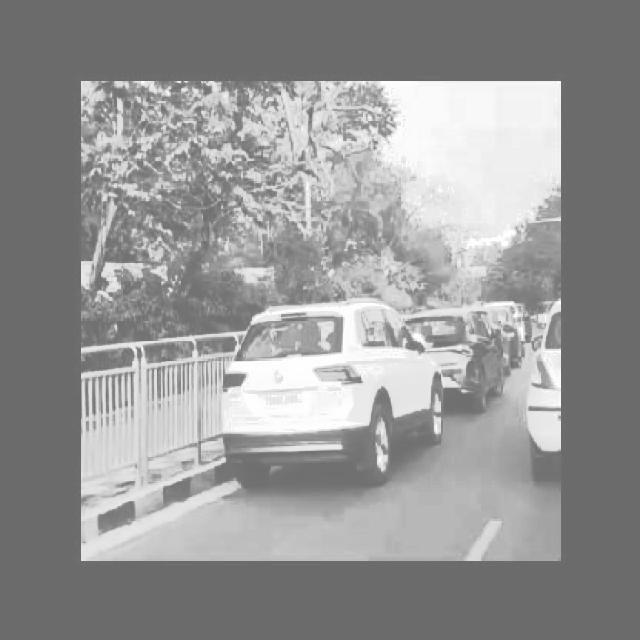Car: (217, 290, 445, 482), (442, 303, 499, 421), (529, 288, 563, 477)
